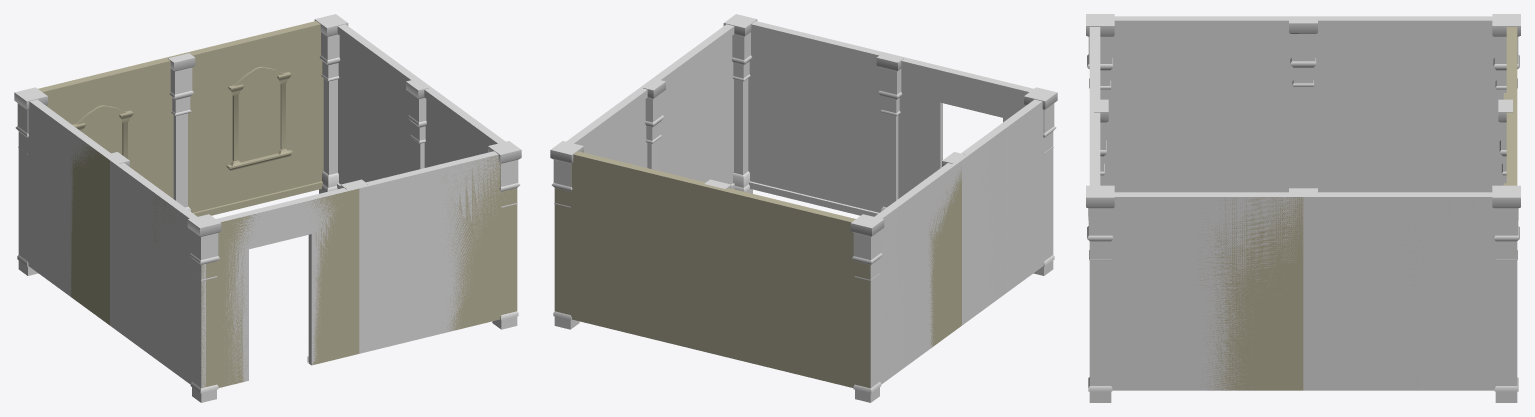
File: Homeworld_Interior_Md_Room_A_Wall_01_Vo.fbx
3 views of the same model, side by side, from view 1: azimuth 30°, elevation 25°; view 2: azimuth 150°, elevation 25°; view 3: azimuth 270°, elevation 25° (orthographic). The views are drawn at different scales.
Visible parts, largest first — view 1: Homeworld_Interior_Md_Room_Wall_01_Vo (×5), Homeworld_Interior_Md_Room_Wall_03_Vo (×2), Homeworld_Interior_Md_Room_A_Filling_01_Vo, Homeworld_Interior_Md_Room_Wall_06_Vo, Homeworld_Interior_Md_Room_Pillar_01_Vo (×4), Homeworld_Interior_Md_Room_Pillar_02_Vo (×2); view 2: Homeworld_Interior_Md_Room_Wall_01_Vo (×5), Homeworld_Interior_Md_Room_A_Filling_01_Vo, Homeworld_Interior_Md_Room_Wall_06_Vo, Homeworld_Interior_Md_Room_Wall_03_Vo (×2), Homeworld_Interior_Md_Room_Pillar_01_Vo (×4), Homeworld_Interior_Md_Room_Pillar_02_Vo (×2); view 3: Homeworld_Interior_Md_Room_Wall_01_Vo (×5), Homeworld_Interior_Md_Room_A_Filling_01_Vo, Homeworld_Interior_Md_Room_Pillar_01_Vo (×4), Homeworld_Interior_Md_Room_Pillar_02_Vo (×3), Homeworld_Interior_Md_Room_Wall_03_Vo (×2), Homeworld_Interior_Md_Room_Wall_06_Vo.
Part boxes in pixels (bbox=[...]): Homeworld_Interior_Md_Room_Wall_01_Vo (×5): bbox=[18, 24, 507, 388]; Homeworld_Interior_Md_Room_Wall_03_Vo (×2): bbox=[38, 21, 323, 216]; Homeworld_Interior_Md_Room_A_Filling_01_Vo: bbox=[70, 140, 517, 387]; Homeworld_Interior_Md_Room_Wall_06_Vo: bbox=[216, 186, 358, 384]; Homeworld_Interior_Md_Room_Pillar_01_Vo (×4): bbox=[14, 14, 521, 402]; Homeworld_Interior_Md_Room_Pillar_02_Vo (×2): bbox=[168, 53, 428, 211]; Homeworld_Interior_Md_Room_Wall_01_Vo (×5): bbox=[566, 21, 1053, 387]; Homeworld_Interior_Md_Room_A_Filling_01_Vo: bbox=[554, 154, 961, 388]; Homeworld_Interior_Md_Room_Wall_06_Vo: bbox=[894, 55, 1033, 198]; Homeworld_Interior_Md_Room_Wall_03_Vo (×2): bbox=[573, 151, 855, 337]; Homeworld_Interior_Md_Room_Pillar_01_Vo (×4): bbox=[550, 14, 1057, 402]; Homeworld_Interior_Md_Room_Pillar_02_Vo (×2): bbox=[643, 53, 903, 211]; Homeworld_Interior_Md_Room_Wall_01_Vo (×5): bbox=[1089, 16, 1517, 390]; Homeworld_Interior_Md_Room_A_Filling_01_Vo: bbox=[1199, 197, 1449, 390]; Homeworld_Interior_Md_Room_Pillar_01_Vo (×4): bbox=[1086, 14, 1520, 402]; Homeworld_Interior_Md_Room_Pillar_02_Vo (×3): bbox=[1094, 17, 1512, 188]; Homeworld_Interior_Md_Room_Wall_03_Vo (×2): bbox=[1503, 27, 1517, 185]; Homeworld_Interior_Md_Room_Wall_06_Vo: bbox=[1089, 27, 1100, 106].
Size of what is drawn, in the model's own units: 10.17 by 5.34 by 10.17.
